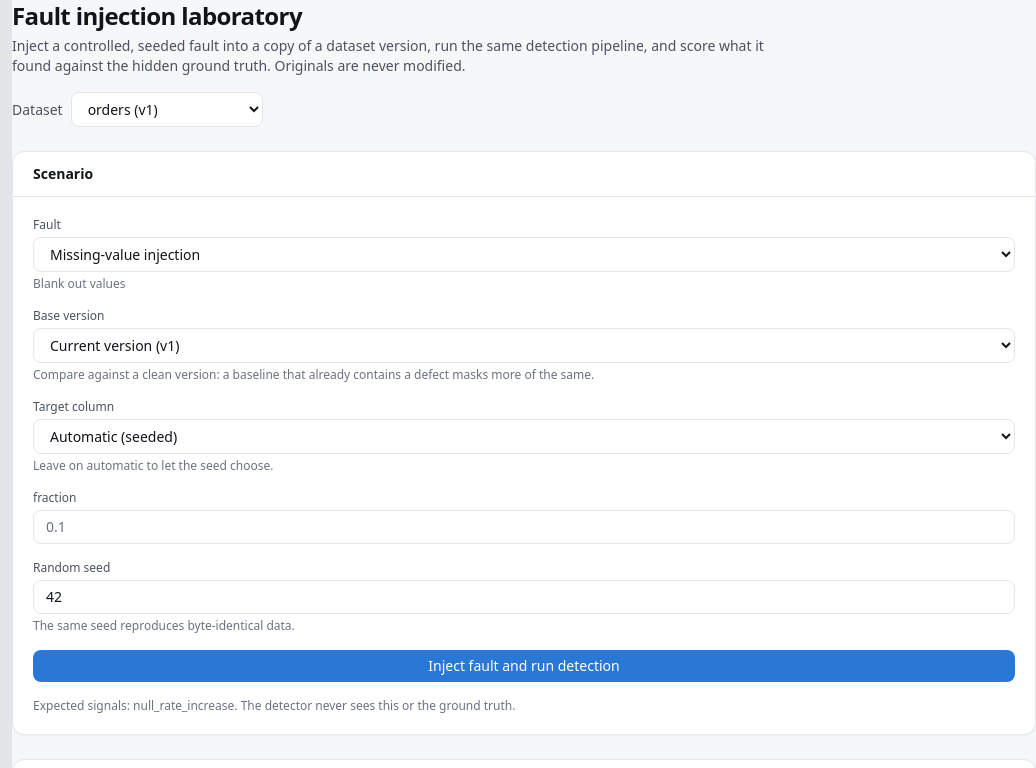
Test: LabPage › runs a seeded scenario and shows ground-truth evaluation
The image size is (1036, 768).
Select "amount" in the dropdown labelled "Target column". click: {"x": 524, "y": 436}
box: [33,419,1015,454]
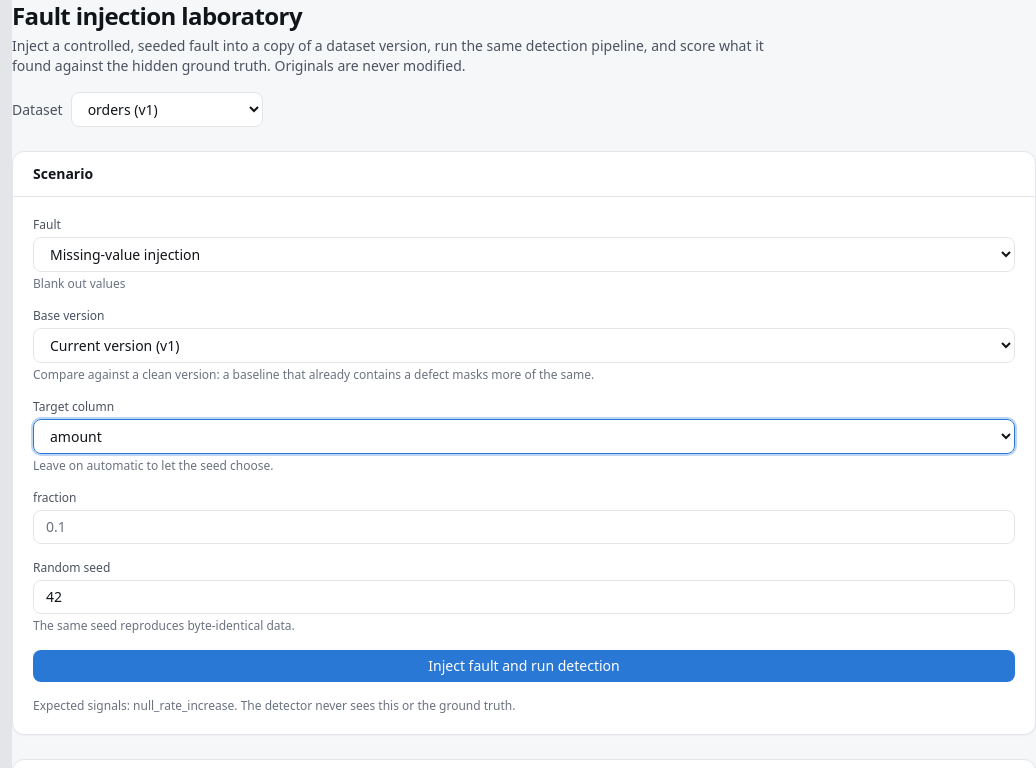
Select "v2 — orders.csv" in the dropdown labelled "Base version". click: {"x": 524, "y": 346}
box: [33,328,1015,363]
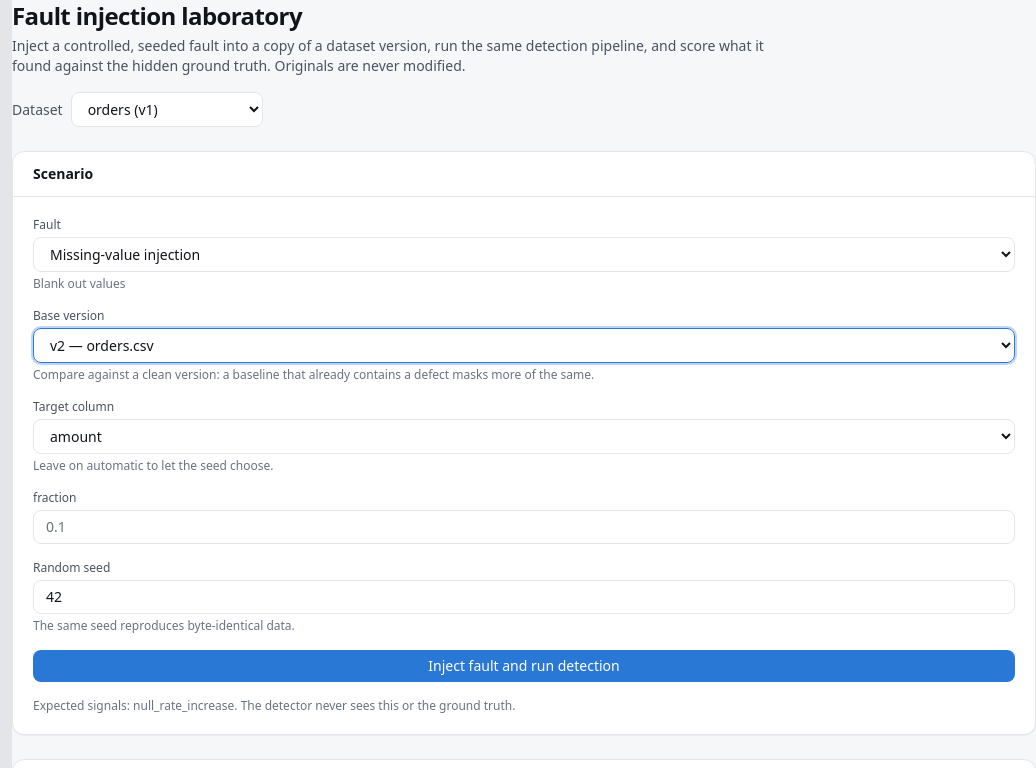
Type "0.2" into the number field labelled "fraction". click: {"x": 524, "y": 527}
box: [33,510,1015,544]
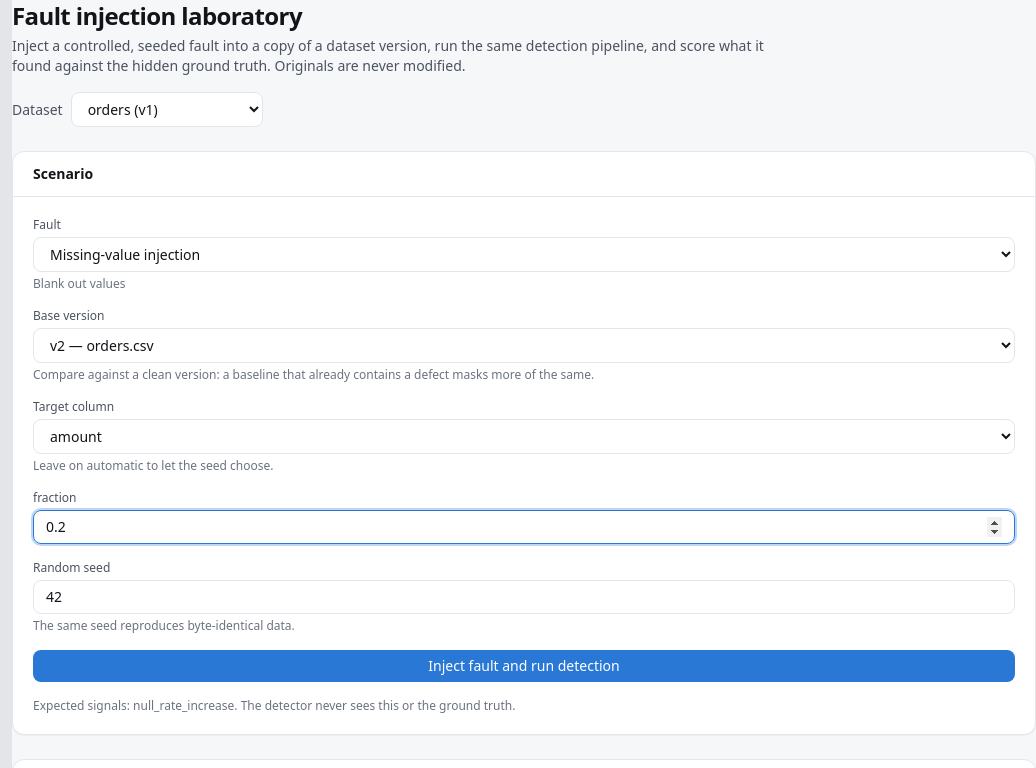
Replace the text in the number field labelled "Random seed" with "7". click: {"x": 524, "y": 597}
box: [33,580,1015,614]
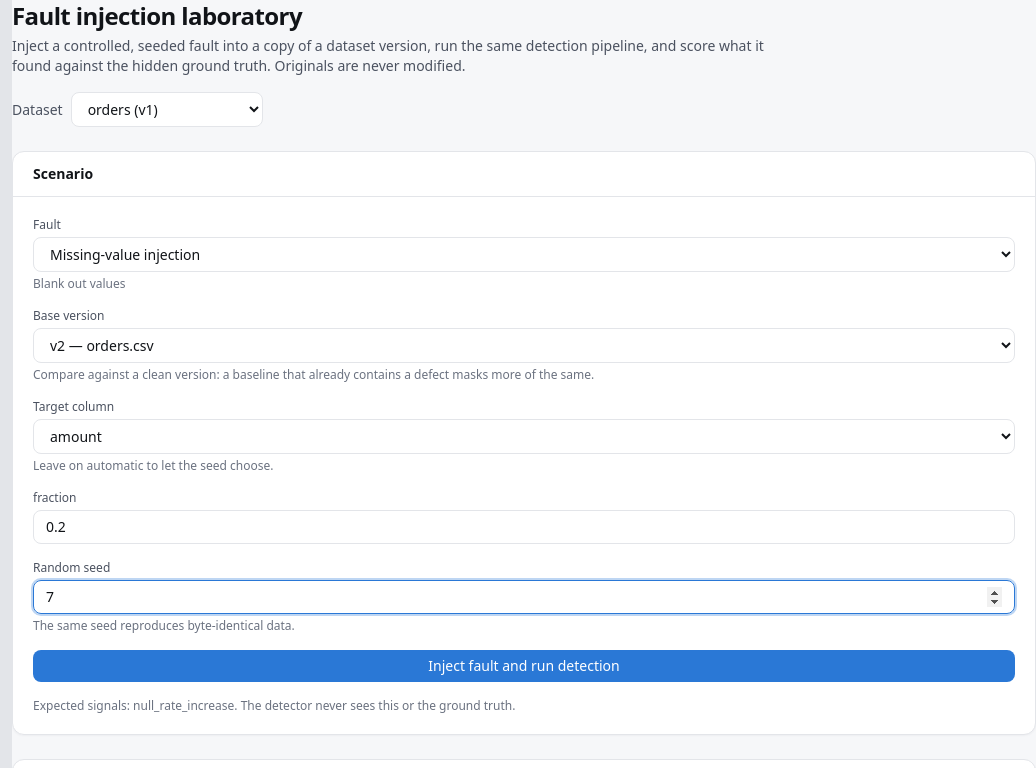
Click the button "Inject fault and run detection". click: {"x": 524, "y": 666}
box: [33,650,1015,682]
(page scrolled)
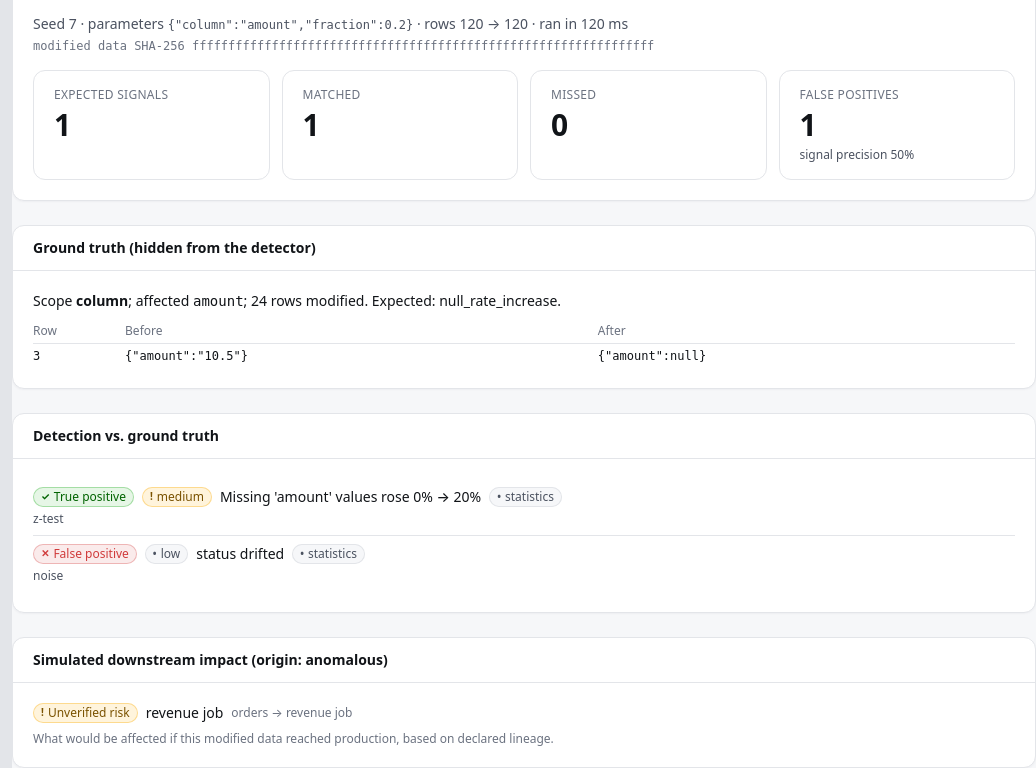
Check: the heading "Ground truth (hidden from the detector)" is shown, box [33,238,316,258]
Check: the text "True positive" is shown, box [54,488,126,505]
Check: the text "False positive" is shown, box [53,545,129,562]
